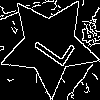L: (24, 20, 76, 69)
